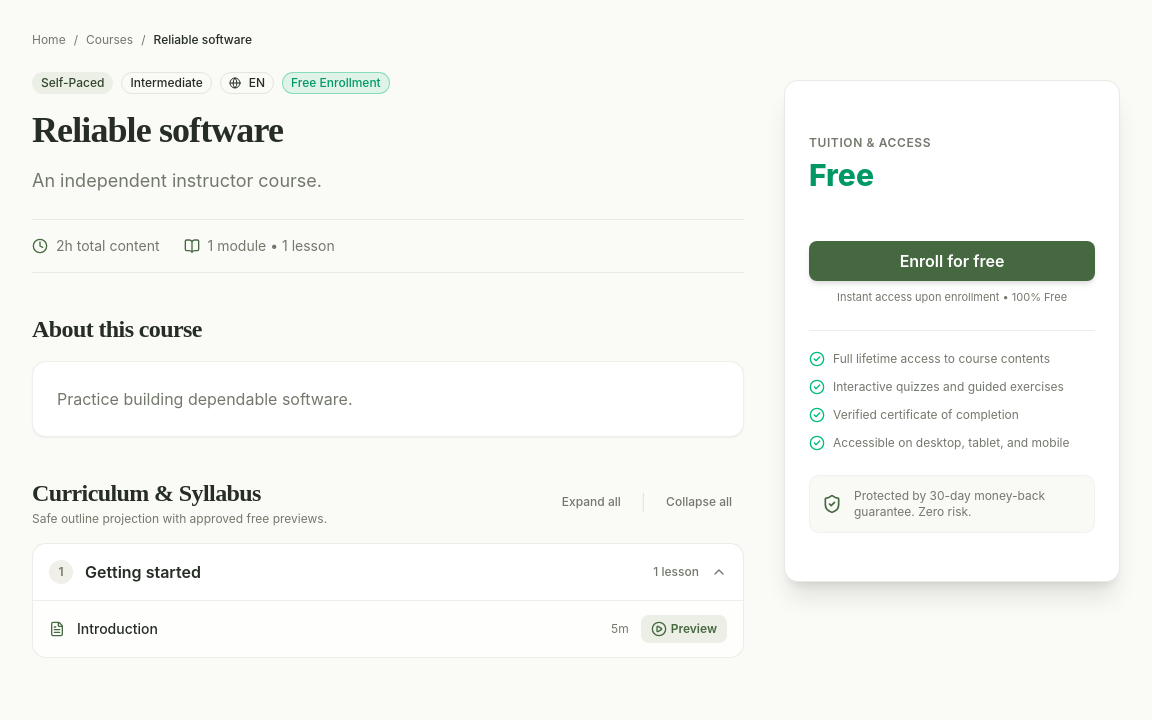
Test case: P3-F-FREE-ENROLL Free Course Enrollment CTA › Error handling (400, 403, 409, 422, 429, 503) › displays clear inline message on HTTP 400
This screenshot has width=1152, height=720.
Click the button "Enroll for free" at coordinates (952, 261), box [809, 241, 1095, 281]
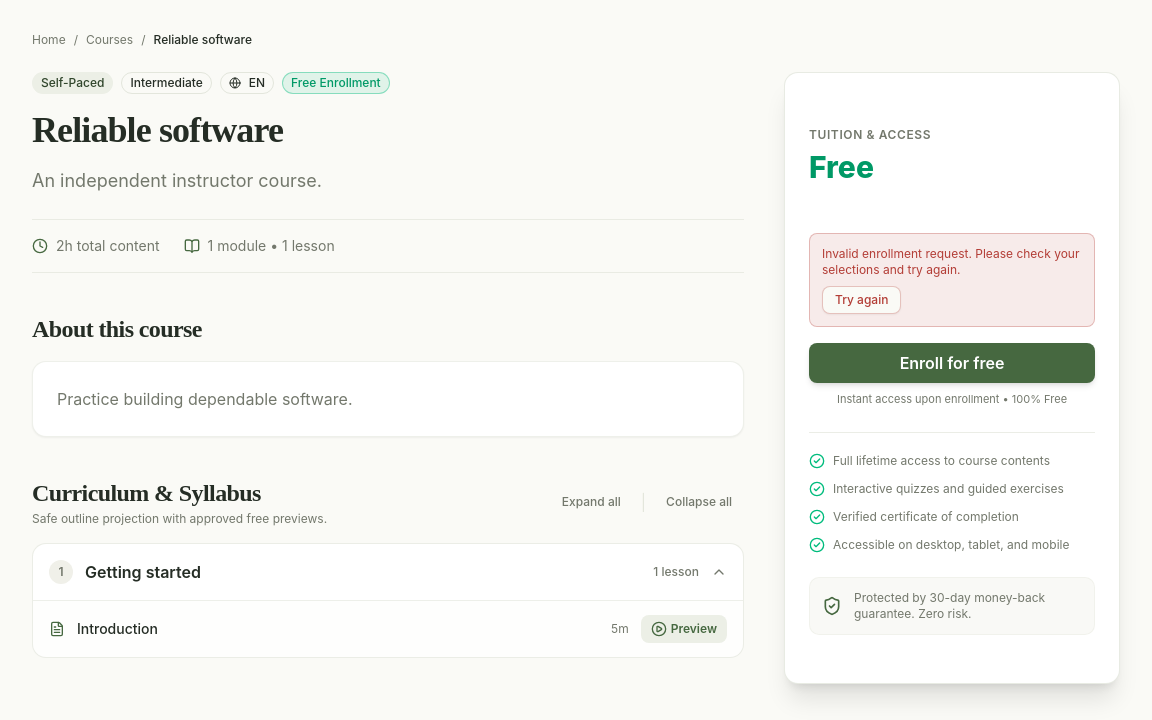
Now the message is shown, box [809, 233, 1095, 327]
Now the message shows "Invalid enrollment request. Please check your selections and try again.", box [822, 246, 1080, 277]
